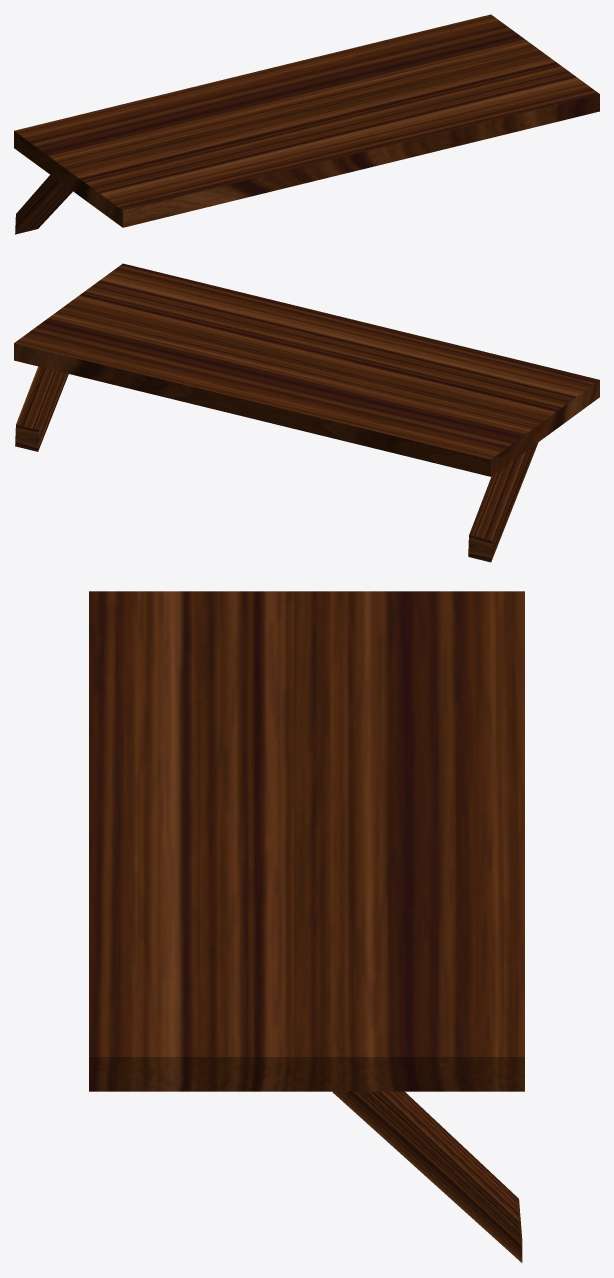
The model's file is simple_shelf_low_poly.glb.
The picture shows the model from 3 angles, top to bottom: view 1: azimuth 30°, elevation 25°; view 2: azimuth 150°, elevation 25°; view 3: azimuth 270°, elevation 25°; orthographic projection. The views are drawn at different scales.
Parts seen in each view (by area): view 1: Cubo, Cubo.001; view 2: Cubo, Cubo.001; view 3: Cubo, Cubo.001.
Boxes of the visible parts, x1=… form: Cubo: x1=14, y1=14, x2=599, y2=227; Cubo.001: x1=15, y1=175, x2=72, y2=234; Cubo: x1=14, y1=263, x2=599, y2=476; Cubo.001: x1=15, y1=366, x2=538, y2=562; Cubo: x1=89, y1=591, x2=524, y2=1091; Cubo.001: x1=332, y1=1091, x2=522, y2=1262.
Bounding box in the file's own units: 7.23 × 1.5 × 2.86.
1 material, 1 textured.
